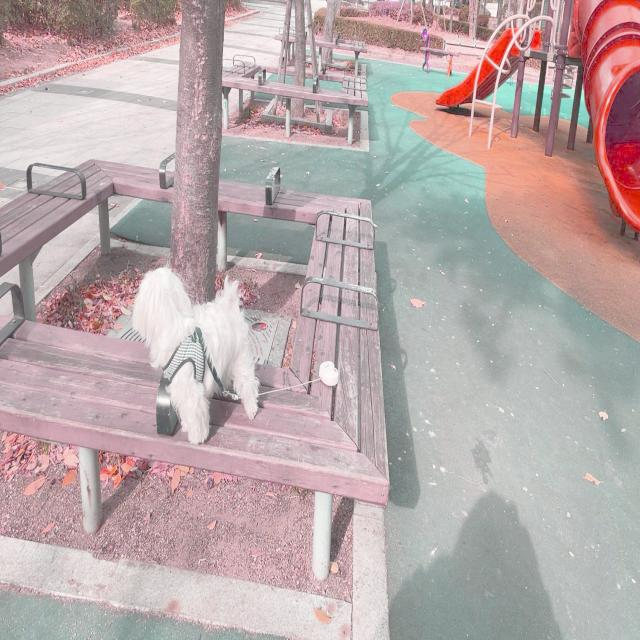Dog: (133, 266, 258, 442)
